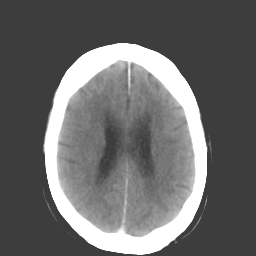ischemic: (58, 91, 99, 214)
